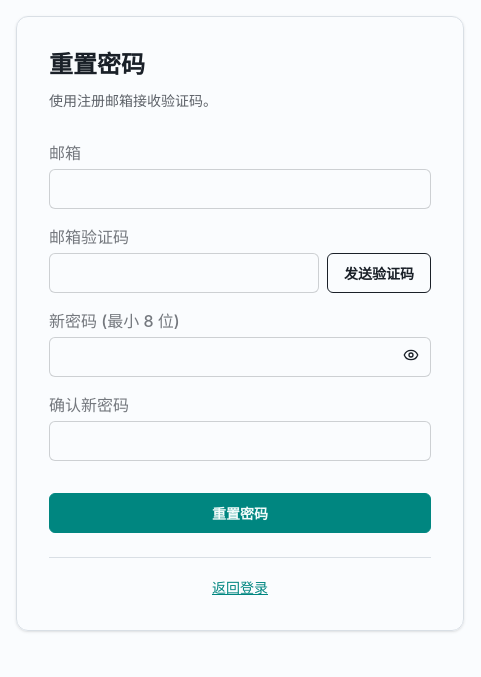
Scenario: ForgotPasswordPage › blocks an invalid email before requesting a recovery code
The image size is (481, 677).
Type "invalid-email" into the field labelled "邮箱" at [240, 189], box [49,169,431,209]
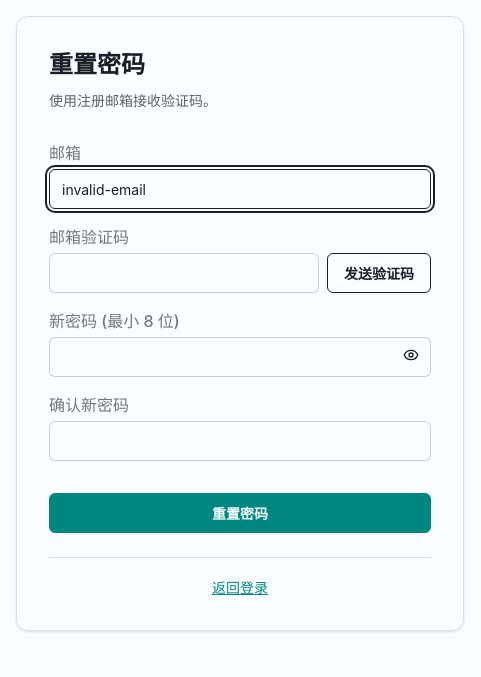
Click the button "发送验证码" at [379, 273], box [327,253,431,293]
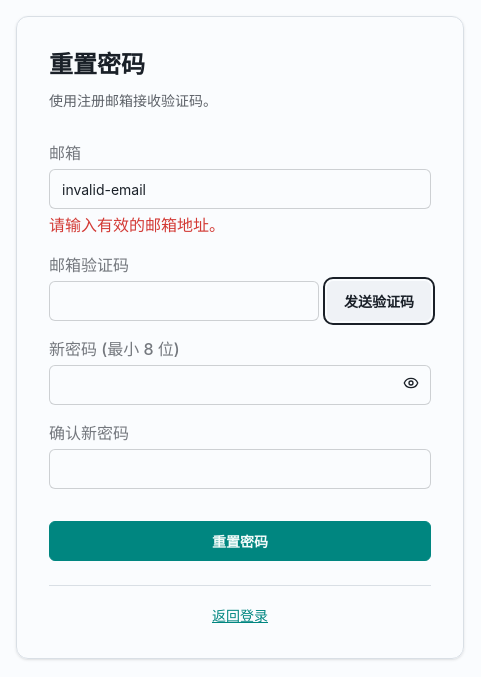
expect the text "请输入有效的邮箱地址。" is shown: met, box [49,209,225,237]
